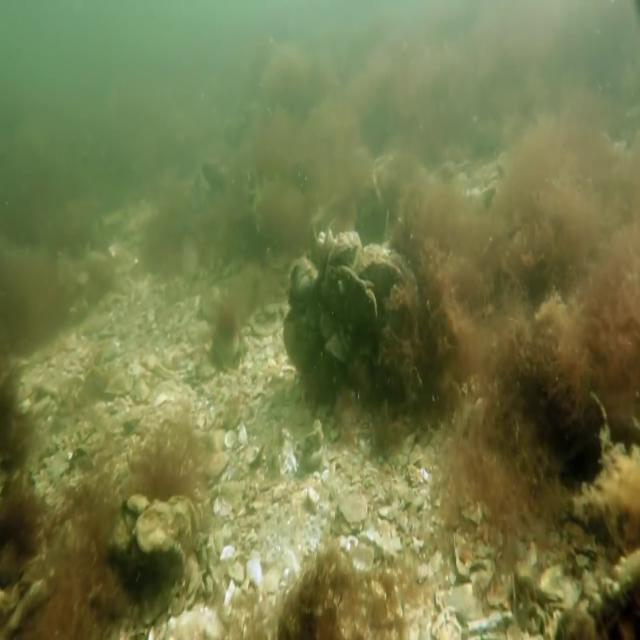Oyster-Closed: (320, 262, 385, 327), (356, 243, 408, 282), (328, 233, 360, 264)
Oyster-Indeterminate: (323, 331, 348, 366)
